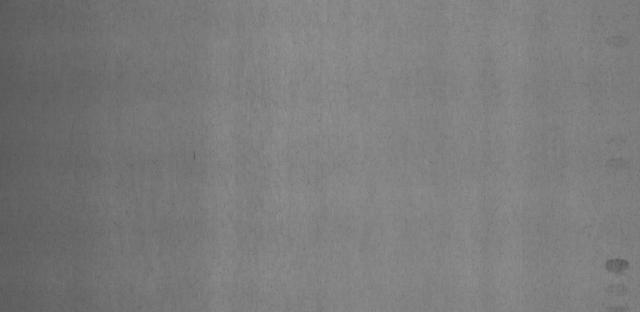oil_spot: (601, 255, 631, 283)
